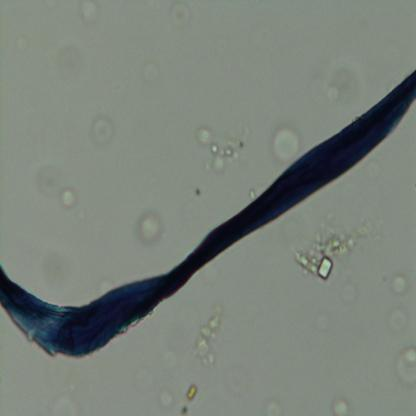Background material: (292, 222, 363, 276), (196, 122, 251, 172), (42, 38, 92, 84), (196, 306, 226, 367), (30, 155, 64, 203), (268, 119, 302, 166), (385, 272, 409, 332), (136, 208, 170, 249), (322, 65, 353, 103), (43, 251, 70, 290), (394, 347, 416, 392), (89, 115, 117, 147), (165, 2, 193, 30), (45, 394, 80, 416), (158, 340, 180, 373), (136, 366, 158, 393), (78, 1, 101, 26), (156, 387, 178, 411), (60, 186, 78, 211), (331, 392, 349, 416), (181, 386, 196, 414), (264, 398, 288, 414), (344, 288, 360, 307), (18, 36, 28, 57), (192, 187, 202, 199)
Cotton: (0, 69, 416, 363)
